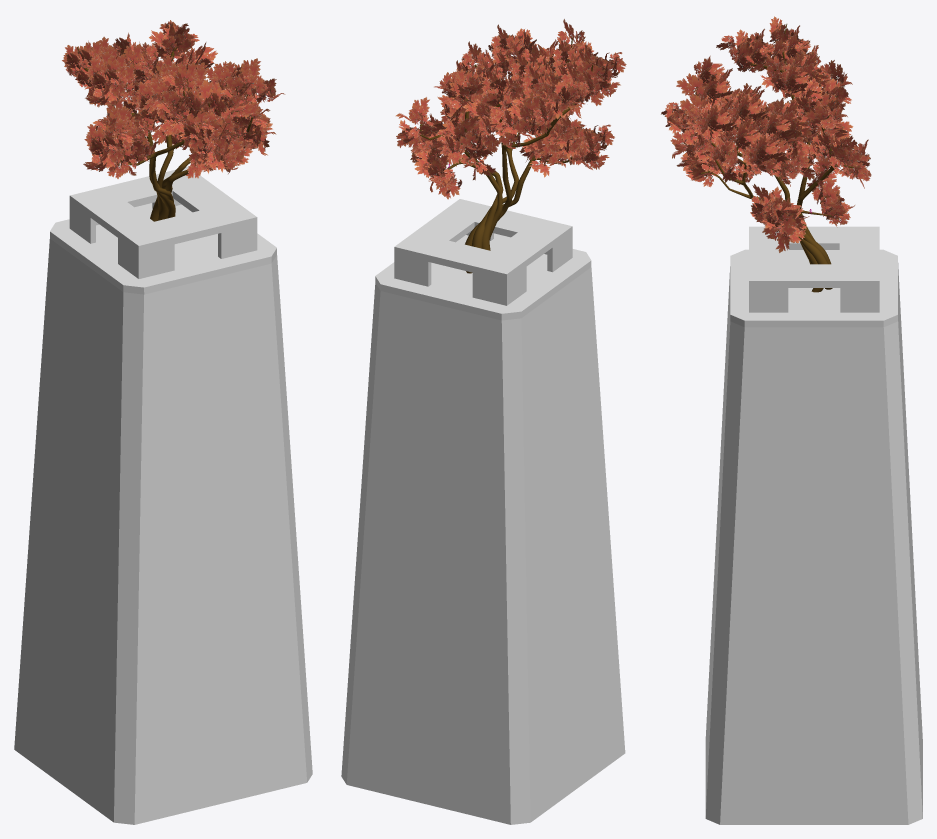
File: test level.fbx
3 renders of one model, left to right at view 1: azimuth 30°, elevation 25°; view 2: azimuth 150°, elevation 25°; view 3: azimuth 270°, elevation 25°, orthographic. The views are drawn at different scales.
Parts seen in each view (by area): view 1: Cube, Tree_mesh, Cube.001; view 2: Cube, Tree_mesh, Cube.001; view 3: Cube, Tree_mesh, Cube.001.
Boxes of the visible parts, x1=… form: Cube: x1=14, y1=203, x2=312, y2=824; Tree_mesh: x1=62, y1=20, x2=285, y2=221; Cube.001: x1=69, y1=166, x2=257, y2=278; Cube: x1=341, y1=233, x2=625, y2=824; Tree_mesh: x1=395, y1=19, x2=626, y2=273; Cube.001: x1=394, y1=199, x2=572, y2=305; Cube: x1=705, y1=249, x2=922, y2=824; Tree_mesh: x1=661, y1=16, x2=871, y2=292; Cube.001: x1=749, y1=226, x2=879, y2=312.
Size of what is drawn, in the model's own units: 6508 by 21385 by 7174.
